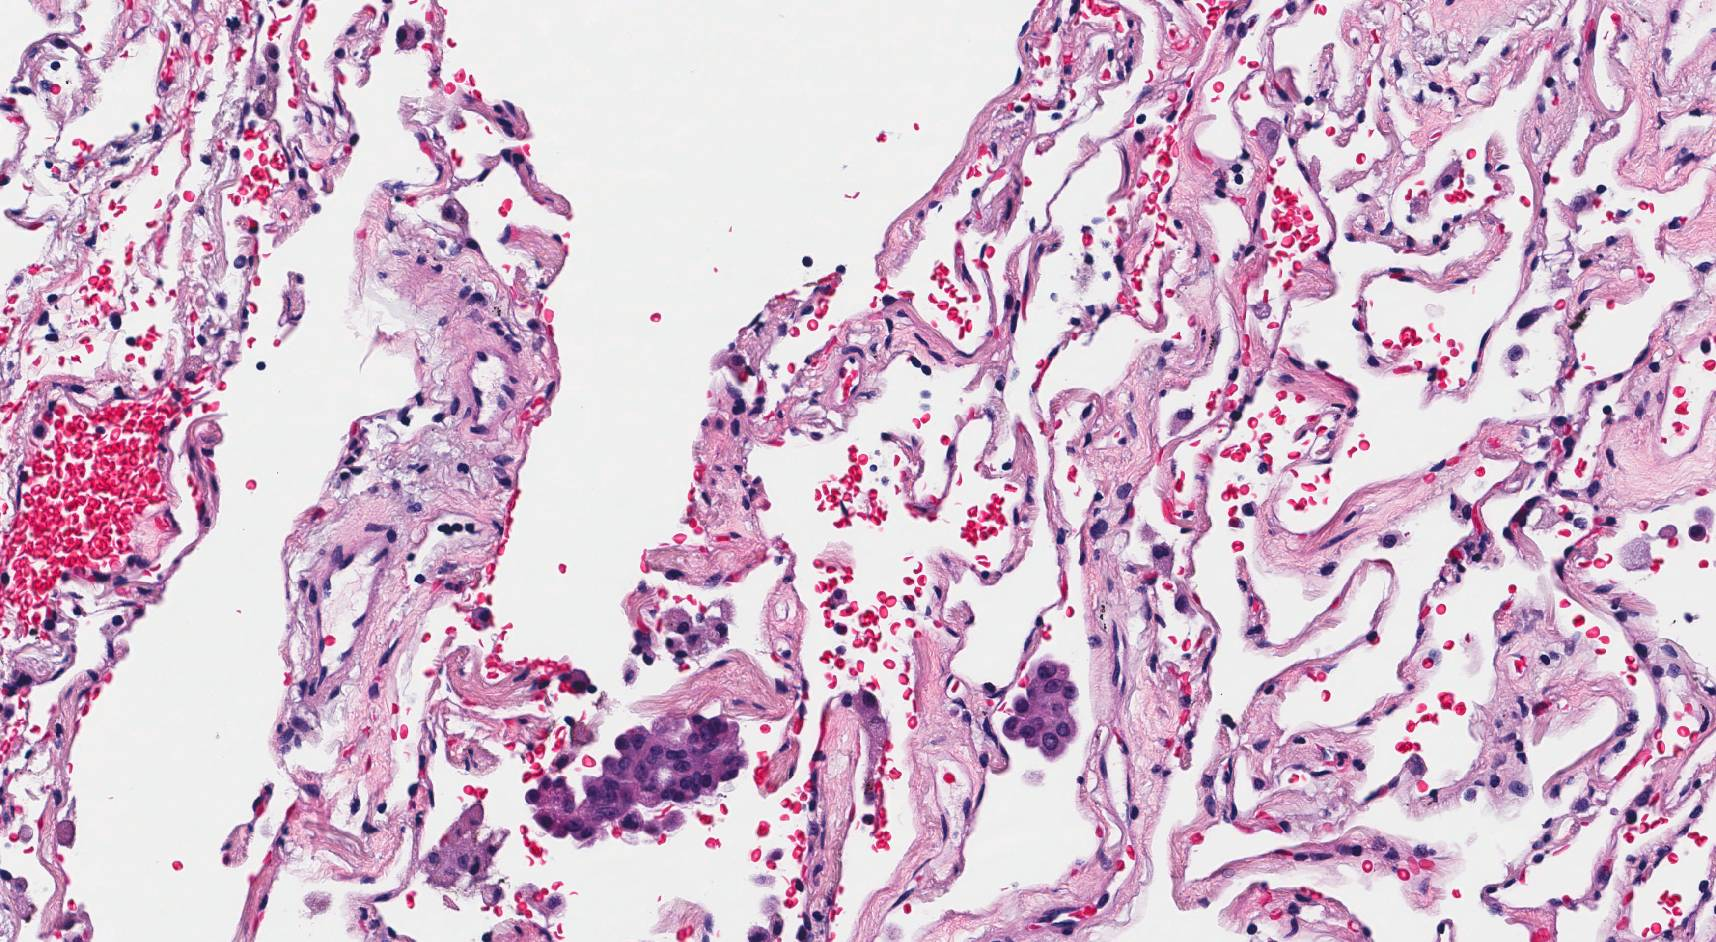stas: (524, 707, 745, 850), (998, 654, 1079, 761)
